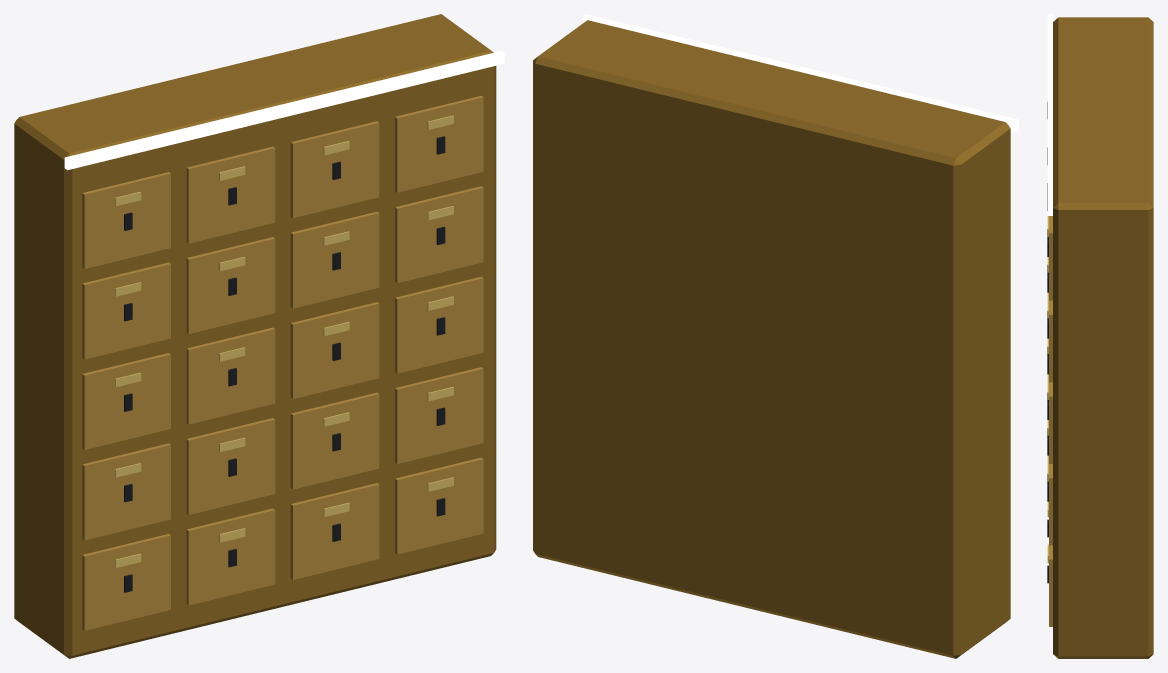
Rendered from kit-newyork-decor-3.glb.
3 views of the same model, side by side, from view 1: azimuth 30°, elevation 25°; view 2: azimuth 150°, elevation 25°; view 3: azimuth 270°, elevation 25° (orthographic). The views are drawn at different scales.
Visible parts, largest first — view 1: kit-newyork-decor-3; view 2: kit-newyork-decor-3; view 3: kit-newyork-decor-3.
Boxes of the visible parts, bbox=[...] form: kit-newyork-decor-3: bbox=[14, 14, 504, 658]; kit-newyork-decor-3: bbox=[533, 14, 1018, 658]; kit-newyork-decor-3: bbox=[1047, 14, 1153, 658].
Size of the model in its own units: 1.72 by 1.9 by 0.402.
